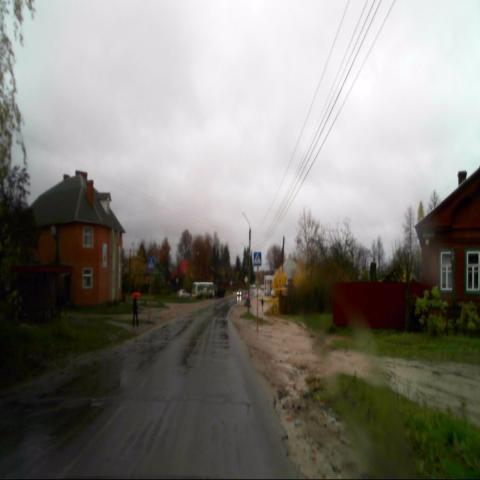5_19_1: (253, 251, 261, 266)
